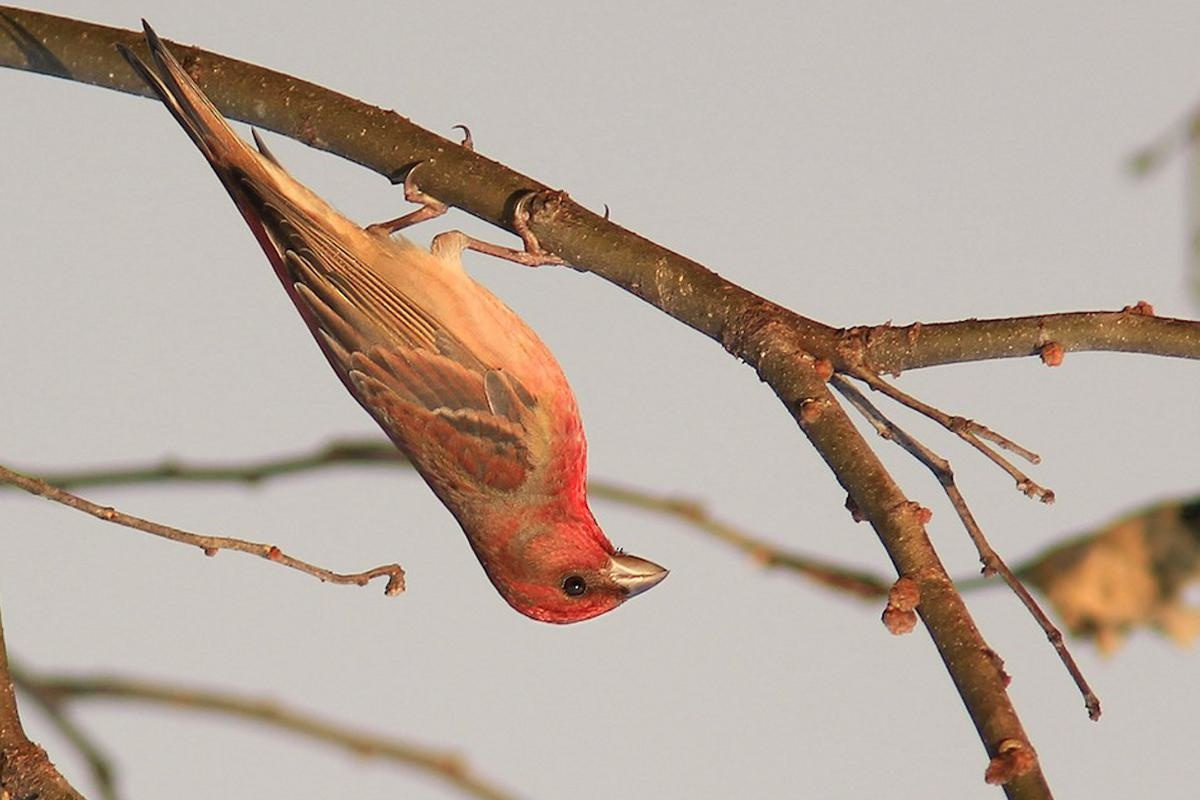rosefinch: (243, 52, 683, 641)
